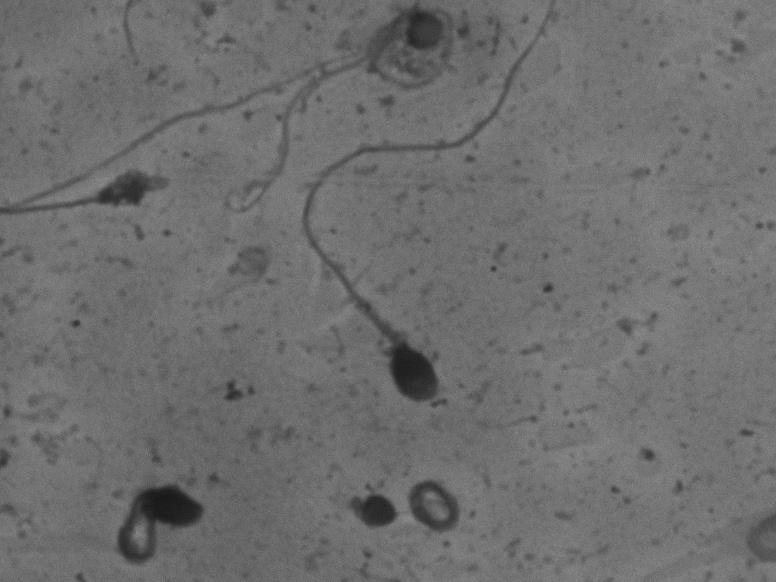Abnormal: (16, 9, 472, 205)
Normal: (281, 8, 580, 419)
